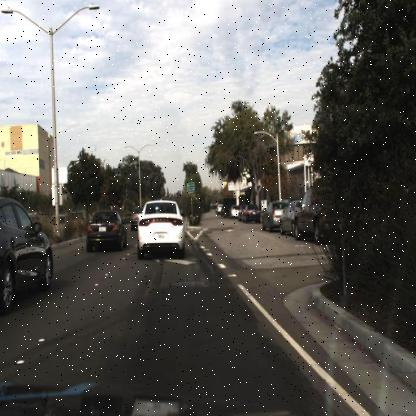car: (0, 192, 55, 309), (132, 198, 186, 260), (293, 186, 341, 242), (85, 206, 126, 256), (278, 197, 304, 237), (259, 198, 288, 233), (241, 201, 260, 224), (230, 200, 240, 218)
